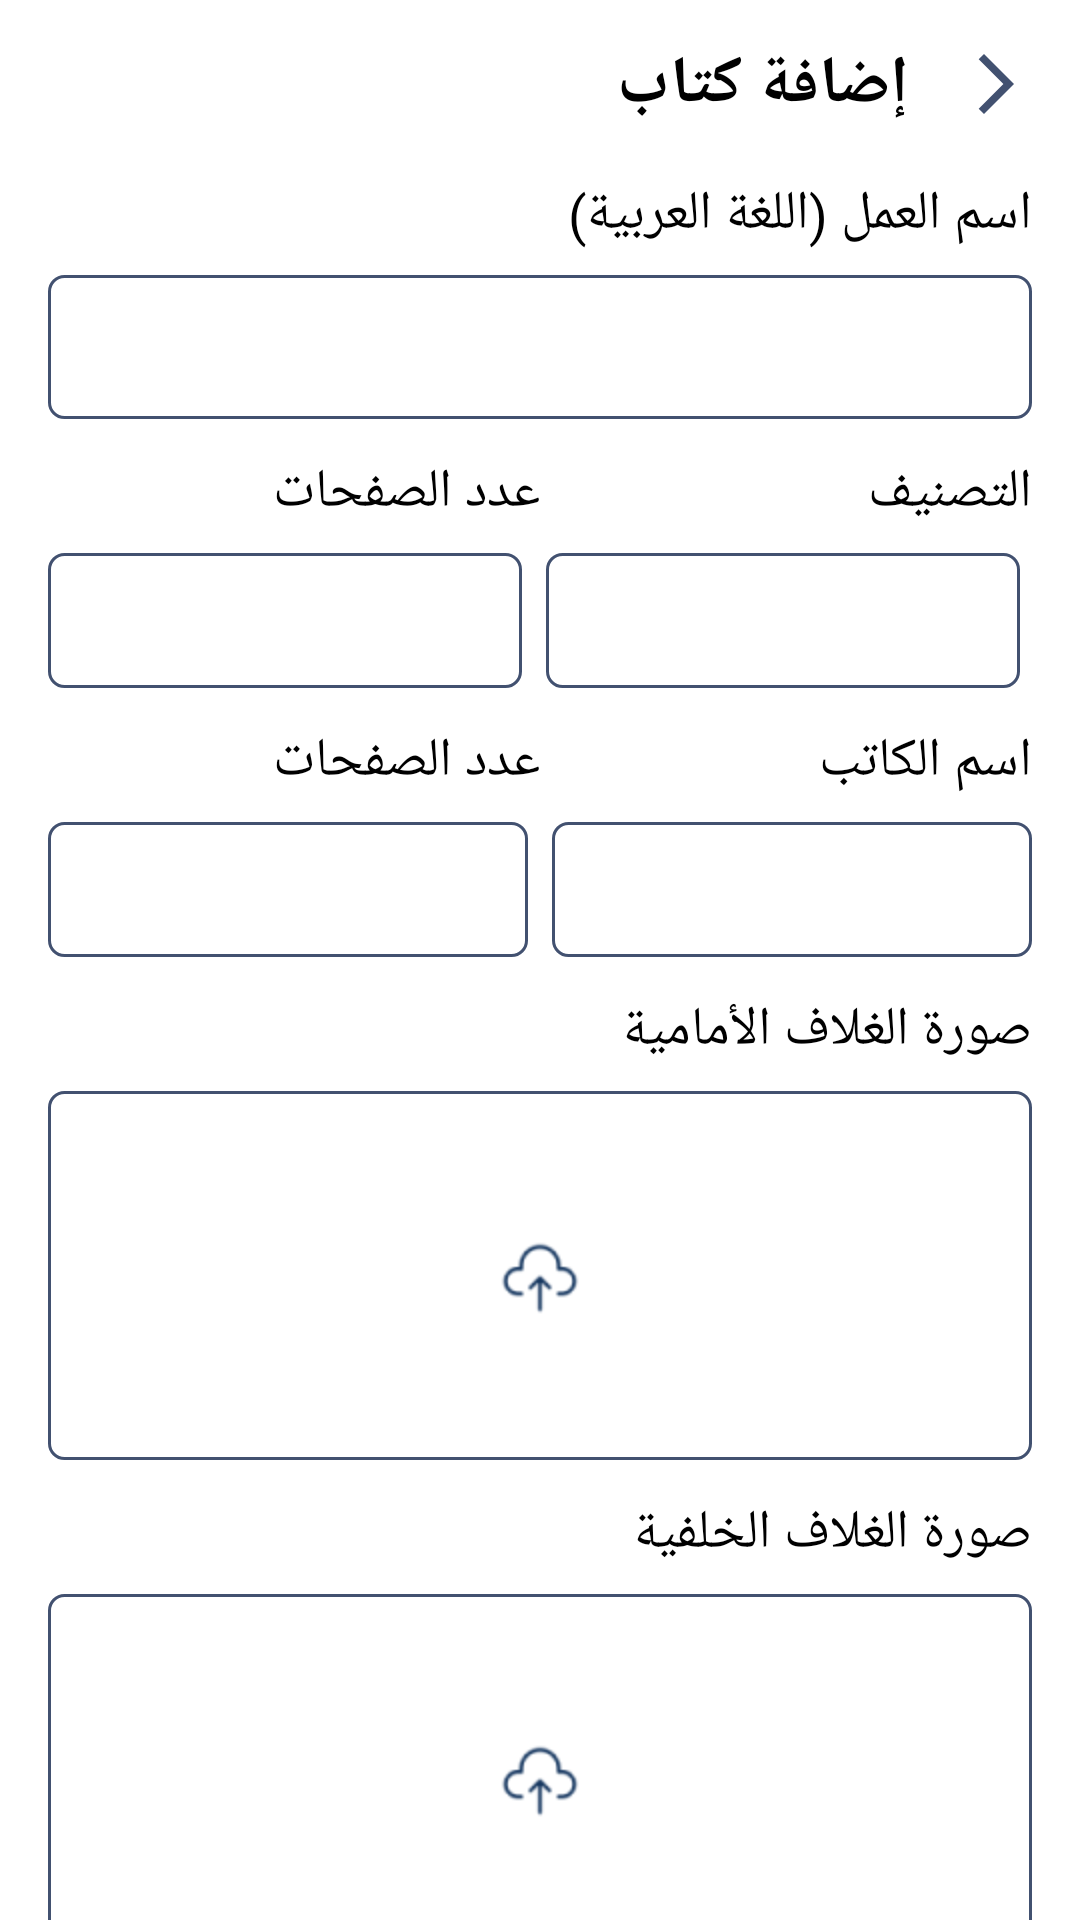

Point at icon controls on the screen. Image size 1080 × 1920, points as [x,y].
arrow forward: [996,84]
uploadtocloud: [540,1278], [540,1780]
